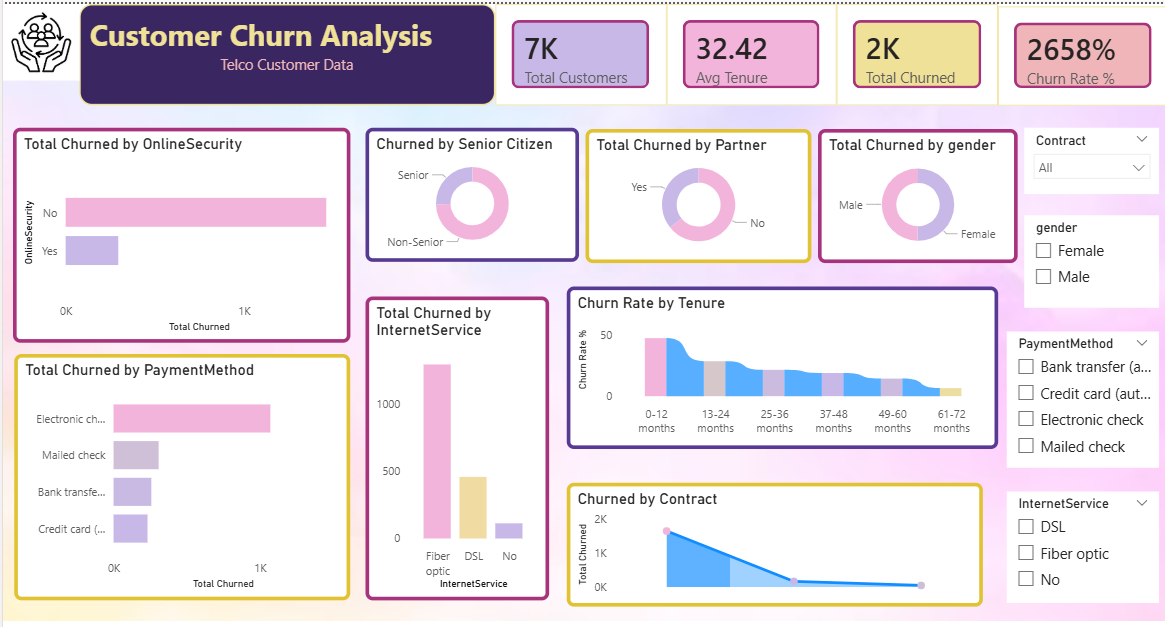

Layout of this report page (visuals, bound fields, positions):
{"tool":"powerbi","page":{"name":"Executive Summary","canvas":[1280,720],"ordinal":0},"visuals":[{"type":"cardVisual","fields":{"Data":["WA_Fn-UseC_-Telco-Customer-Churn.Total Customers"]},"box":[540.7,0,188,111.1],"z":0},{"type":"cardVisual","fields":{"Data":["WA_Fn-UseC_-Telco-Customer-Churn.Total Churned"]},"box":[915.3,0,177,111.1],"z":1000},{"type":"cardVisual","fields":{"Data":["WA_Fn-UseC_-Telco-Customer-Churn.Churn Rate %"]},"box":[1092.3,2.7,188,108.4],"z":2000},{"type":"cardVisual","fields":{"Data":["WA_Fn-UseC_-Telco-Customer-Churn.Avg Tenure"]},"box":[728.6,0,186.6,111.1],"z":3000},{"type":"lineChart","title":"Churned by Contract","fields":{"Category":["WA_Fn-UseC_-Telco-Customer-Churn.Contract"],"Y":["WA_Fn-UseC_-Telco-Customer-Churn.Total Churned"]},"box":[618.9,525.6,456.9,135.8],"z":4000},{"type":"barChart","fields":{"Y":["WA_Fn-UseC_-Telco-Customer-Churn.Total Churned"],"Category":["WA_Fn-UseC_-Telco-Customer-Churn.PaymentMethod"]},"box":[12.3,384.2,369.1,270.3],"z":5000},{"type":"columnChart","fields":{"Category":["WA_Fn-UseC_-Telco-Customer-Churn.InternetService"],"Y":["WA_Fn-UseC_-Telco-Customer-Churn.Total Churned"]},"box":[397.9,321.1,201.7,333.4],"z":6000},{"type":"barChart","fields":{"Y":["WA_Fn-UseC_-Telco-Customer-Churn.Total Churned"],"Category":["WA_Fn-UseC_-Telco-Customer-Churn.OnlineSecurity"]},"box":[11,135.8,370.5,236],"z":7000},{"type":"ribbonChart","title":"Churn Rate  by Tenure","fields":{"Category":["WA_Fn-UseC_-Telco-Customer-Churn.Tenure_Groups"],"Y":["WA_Fn-UseC_-Telco-Customer-Churn.Churn Rate %"]},"box":[618.9,310.1,473.4,178.4],"z":8000},{"type":"donutChart","fields":{"Category":["WA_Fn-UseC_-Telco-Customer-Churn.gender"],"Y":["WA_Fn-UseC_-Telco-Customer-Churn.Total Churned"]},"box":[894.7,137.2,219.6,146.8],"z":9000},{"type":"donutChart","title":"Churned by Senior Citizen","fields":{"Category":["WA_Fn-UseC_-Telco-Customer-Churn.Senior_Citizen_Label"],"Y":["WA_Fn-UseC_-Telco-Customer-Churn.Total Churned"]},"box":[397.9,135.8,234.6,146.8],"z":10000},{"type":"donutChart","fields":{"Y":["WA_Fn-UseC_-Telco-Customer-Churn.Total Churned"],"Category":["WA_Fn-UseC_-Telco-Customer-Churn.Partner"]},"box":[639.5,137.2,248.4,146.8],"z":11000},{"type":"slicer","fields":{"Values":["WA_Fn-UseC_-Telco-Customer-Churn.Contract"]},"box":[1121.1,135.8,148.2,72.7],"z":12000},{"type":"slicer","fields":{"Values":["WA_Fn-UseC_-Telco-Customer-Churn.InternetService"]},"box":[1101.9,535.2,167.4,122.1],"z":13000},{"type":"slicer","fields":{"Values":["WA_Fn-UseC_-Telco-Customer-Churn.PaymentMethod"]},"box":[1101.9,359.5,167.4,149.6],"z":14000},{"type":"slicer","fields":{"Values":["WA_Fn-UseC_-Telco-Customer-Churn.gender"]},"box":[1121.1,231.9,148.2,101.5],"z":15000},{"type":"textbox","box":[83.7,0,456.9,111.1],"z":16000},{"type":"image","box":[0,0,83.7,83.7],"z":17000}]}

Visuals, with their boxes in screenshot pixels (x1, y1, x2, y2):
cardVisual - WA_Fn-UseC_-Telco-Customer-Churn.Total Customers: (left=491, top=0, right=659, bottom=99)
cardVisual - WA_Fn-UseC_-Telco-Customer-Churn.Total Churned: (left=825, top=0, right=983, bottom=99)
cardVisual - WA_Fn-UseC_-Telco-Customer-Churn.Churn Rate %: (left=983, top=2, right=1151, bottom=99)
cardVisual - WA_Fn-UseC_-Telco-Customer-Churn.Avg Tenure: (left=659, top=0, right=825, bottom=99)
"Churned by Contract" lineChart: (left=561, top=469, right=968, bottom=590)
barChart - WA_Fn-UseC_-Telco-Customer-Churn.Total Churned x WA_Fn-UseC_-Telco-Customer-Churn.PaymentMethod: (left=20, top=343, right=349, bottom=584)
columnChart - WA_Fn-UseC_-Telco-Customer-Churn.InternetService x WA_Fn-UseC_-Telco-Customer-Churn.Total Churned: (left=364, top=286, right=544, bottom=584)
barChart - WA_Fn-UseC_-Telco-Customer-Churn.Total Churned x WA_Fn-UseC_-Telco-Customer-Churn.OnlineSecurity: (left=19, top=121, right=349, bottom=332)
"Churn Rate  by Tenure" ribbonChart: (left=561, top=277, right=983, bottom=436)
donutChart - WA_Fn-UseC_-Telco-Customer-Churn.gender x WA_Fn-UseC_-Telco-Customer-Churn.Total Churned: (left=807, top=122, right=1003, bottom=253)
"Churned by Senior Citizen" donutChart: (left=364, top=121, right=573, bottom=252)
donutChart - WA_Fn-UseC_-Telco-Customer-Churn.Total Churned x WA_Fn-UseC_-Telco-Customer-Churn.Partner: (left=579, top=122, right=801, bottom=253)
slicer - WA_Fn-UseC_-Telco-Customer-Churn.Contract: (left=1009, top=121, right=1141, bottom=186)
slicer - WA_Fn-UseC_-Telco-Customer-Churn.InternetService: (left=992, top=477, right=1141, bottom=586)
slicer - WA_Fn-UseC_-Telco-Customer-Churn.PaymentMethod: (left=992, top=321, right=1141, bottom=454)
slicer - WA_Fn-UseC_-Telco-Customer-Churn.gender: (left=1009, top=207, right=1141, bottom=297)
textbox: (left=84, top=0, right=491, bottom=99)
image: (left=9, top=0, right=84, bottom=75)
